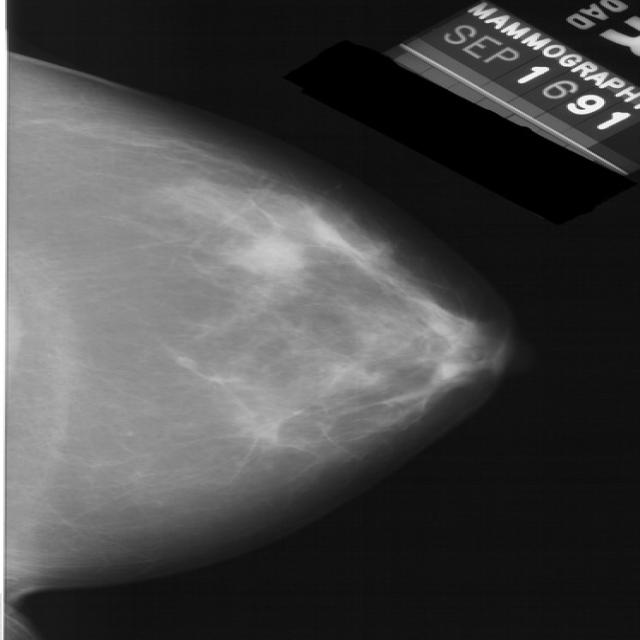tumour: (223, 232, 307, 276)
